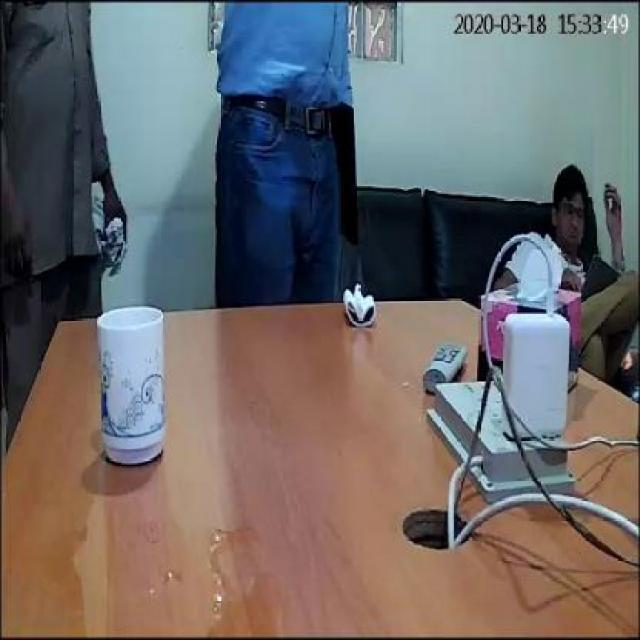spill: (48, 514, 292, 632)
